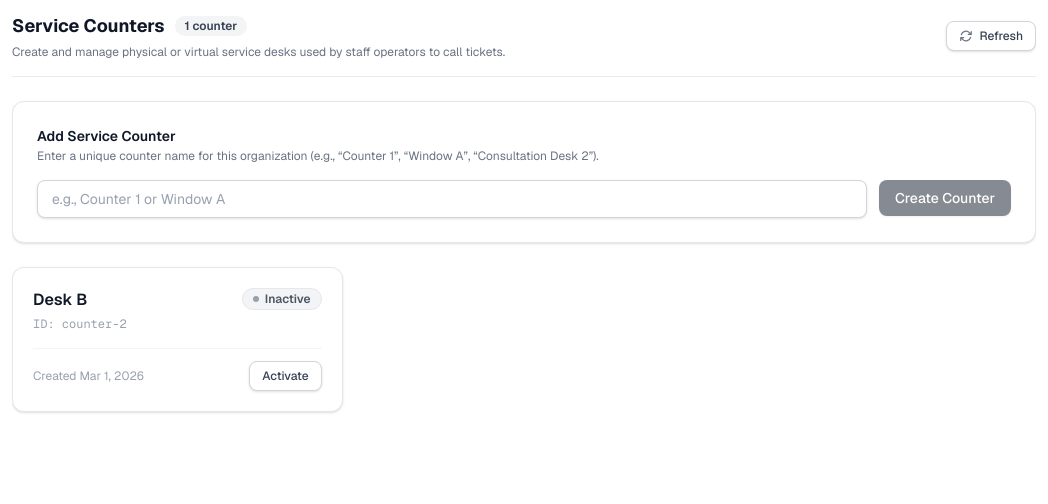
Scenario: components/admin/CounterManagement › Counter activation and deactivation controls › successfully activates an inactive counter and updates UI status
Expected: the heading "Desk B" is shown, [33,289,87,310]
Expected: the text "Inactive" is shown, [242,288,322,310]
Click the button with aria-label "activate desk b". click: (285, 376)
box: [249,361,322,391]
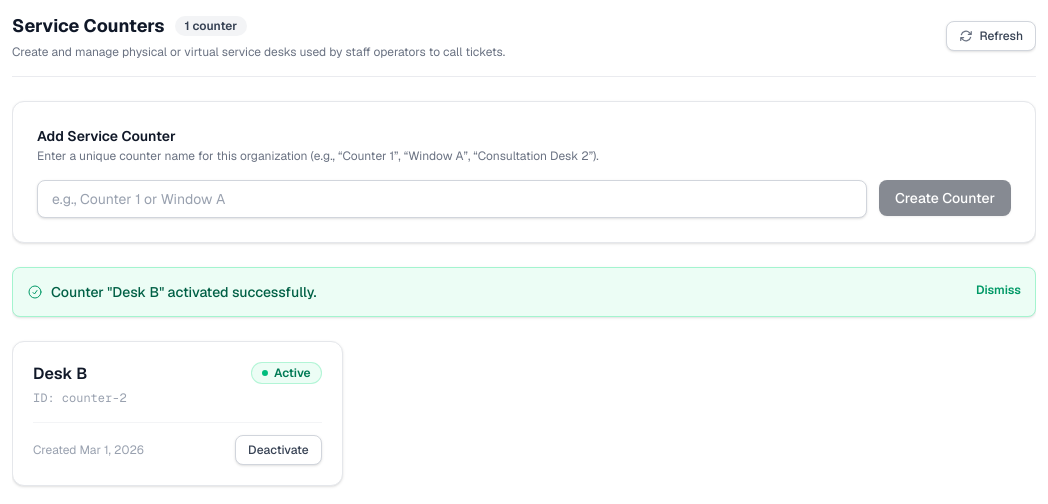
Expected: the text "Active" is shown, [251,362,322,384]
Result: the text "Counter \"Desk B\" activated successfully." is shown at [51,282,317,302]
Result: the button with aria-label "deactivate desk b" is shown at [235,435,322,465]
